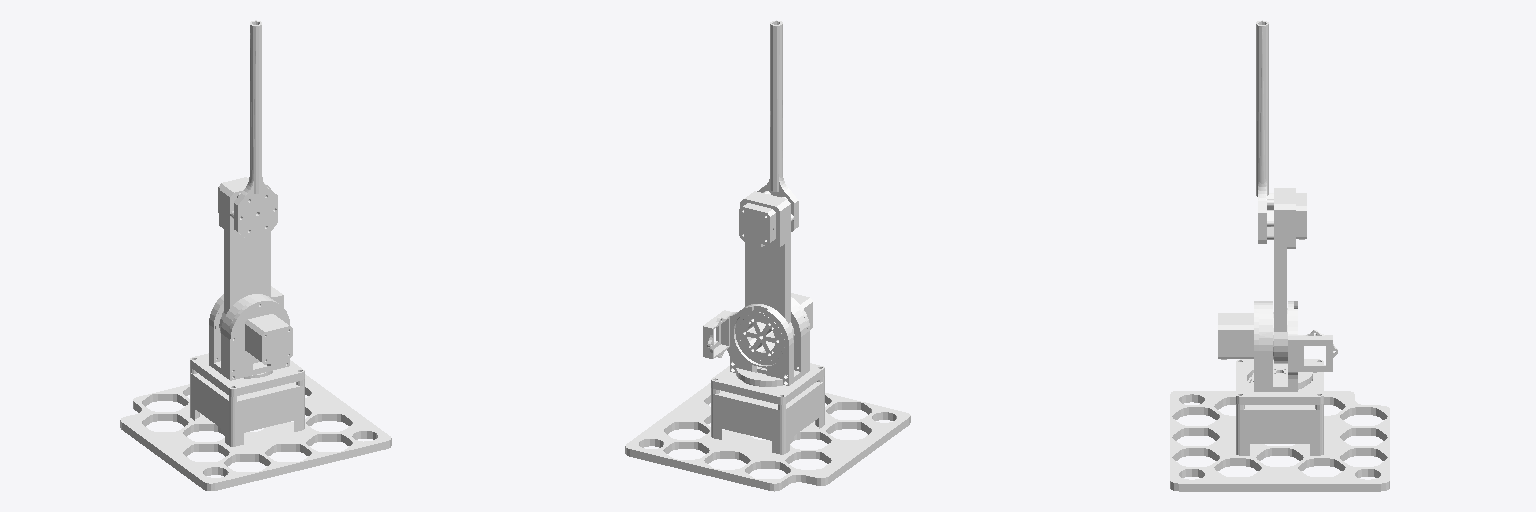
robot.urdf — arm:
<?xml version="1.0" encoding="utf-8"?>
<!-- This URDF was automatically created by SolidWorks to URDF Exporter! Originally created by Stephen Brawner (brawner@gmail.com) 
     Commit Version: 1.6.0-4-g7f85cfe  Build Version: 1.6.7995.38578
     For more information, please see http://wiki.ros.org/sw_urdf_exporter -->
<robot
  name="arm">
  <link
    name="base_link">
    <inertial>
      <origin
        xyz="0.0012131 -0.0014506 -0.034958"
        rpy="0 0 0" />
      <mass
        value="0.78149" />
      <inertia
        ixx="0.0019347"
        ixy="-0.00010589"
        ixz="5.8261E-07"
        iyy="0.0023266"
        iyz="-8.0214E-07"
        izz="0.0041268" />
    </inertial>
    <visual>
      <origin
        xyz="0 0 0"
        rpy="0 0 0" />
      <geometry>
        <mesh
          filename="package://arm/model/base_link.STL" />
      </geometry>
      <material
        name="">
        <color
          rgba="1 1 1 1" />
      </material>
    </visual>
    <collision>
      <origin
        xyz="0 0 0"
        rpy="0 0 0" />
      <geometry>
        <mesh
          filename="package://arm/model/base_link.STL" />
      </geometry>
    </collision>
  </link>
  <link
    name="link1">
    <inertial>
      <origin
        xyz="0.00273821837506744 -0.0177429514274453 0.0322867931957599"
        rpy="0 0 0" />
      <mass
        value="0.237480459004493" />
      <inertia
        ixx="0.000162650922485102"
        ixy="-5.04757721476443E-06"
        ixz="-9.23387553668904E-06"
        iyy="0.000247023468822088"
        iyz="1.28020465130273E-05"
        izz="0.000156564161428289" />
    </inertial>
    <visual>
      <origin
        xyz="0 0 0"
        rpy="0 0 0" />
      <geometry>
        <mesh
          filename="package://arm/model/link1.STL" />
      </geometry>
      <material
        name="">
        <color
          rgba="1 1 1 1" />
      </material>
    </visual>
    <collision>
      <origin
        xyz="0 0 0"
        rpy="0 0 0" />
      <geometry>
        <mesh
          filename="package://arm/model/link1.STL" />
      </geometry>
    </collision>
  </link>
  <joint
    name="joint1"
    type="revolute">
    <origin
      xyz="0 0 0.022"
      rpy="0 0 0" />
    <parent
      link="base_link" />
    <child
      link="link1" />
    <axis
      xyz="0 0 1" />
    <limit
      lower="-3.14"
      upper="3.14"
      effort="5"
      velocity="5" />
  </joint>
  <link
    name="link2">
    <inertial>
      <origin
        xyz="0.0892998843915414 7.48438309078336E-07 -0.0131208277750325"
        rpy="0 0 0" />
      <mass
        value="0.259550359688615" />
      <inertia
        ixx="7.02266674017583E-05"
        ixy="-7.86192982561731E-08"
        ixz="-5.73786610255225E-06"
        iyy="0.000704712640976422"
        iyz="-9.44678663691749E-11"
        izz="0.000753942469921271" />
    </inertial>
    <visual>
      <origin
        xyz="0 0 0"
        rpy="0 0 0" />
      <geometry>
        <mesh
          filename="package://arm/model/link2.STL" />
      </geometry>
      <material
        name="">
        <color
          rgba="1 1 1 1" />
      </material>
    </visual>
    <collision>
      <origin
        xyz="0 0 0"
        rpy="0 0 0" />
      <geometry>
        <mesh
          filename="package://arm/model/link2.STL" />
      </geometry>
    </collision>
  </link>
  <joint
    name="joint2"
    type="revolute">
    <origin
      xyz="0 0.0160000000000002 0.0479999999999999"
      rpy="1.57079632679489 -1.57079 -3.14159265358979" />
    <parent
      link="link1" />
    <child
      link="link2" />
    <axis
      xyz="0 0 1" />
    <limit
      lower="-3.14"
      upper="3.14"
      effort="5"
      velocity="5" />
  </joint>
  <link
    name="link3">
    <inertial>
      <origin
        xyz="0.0627900438507056 -1.01486480885704E-08 -0.00500000037135806"
        rpy="0 0 0" />
      <mass
        value="0.057796264343919" />
      <inertia
        ixx="7.17096055591796E-06"
        ixy="2.69799094568741E-12"
        ixz="2.18087192979338E-12"
        iyy="0.000318297451981801"
        iyz="2.55594415464878E-12"
        izz="0.000324021882416629" />
    </inertial>
    <visual>
      <origin
        xyz="0 0 0"
        rpy="0 0 0" />
      <geometry>
        <mesh
          filename="package://arm/model/link3.STL" />
      </geometry>
      <material
        name="">
        <color
          rgba="1 1 1 1" />
      </material>
    </visual>
    <collision>
      <origin
        xyz="0 0 0"
        rpy="0 0 0" />
      <geometry>
        <mesh
          filename="package://arm/model/link3.STL" />
      </geometry>
    </collision>
  </link>
  <joint
    name="joint3"
    type="revolute">
    <origin
      xyz="0.149999999999999 0 -0.041"
      rpy="-3.14159265358979 0 0" />
    <parent
      link="link2" />
    <child
      link="link3" />
    <axis
      xyz="0 0 -1" />
    <limit
      lower="-3.14"
      upper="3.14"
      effort="5"
      velocity="5" />
  </joint>
  <link
    name="link4">
    <inertial>
      <origin
        xyz="-0.000500000000000278 -2.22044604925031E-16 0"
        rpy="0 0 0" />
      <mass
        value="0.000101284947151736" />
      <inertia
        ixx="4.06456492919918E-09"
        ixy="5.16987882845642E-26"
        ixz="1.68021061924834E-25"
        iyy="2.04072287686223E-09"
        iyz="-1.03397576569128E-25"
        izz="2.04072287686223E-09" />
    </inertial>
    <visual>
      <origin
        xyz="0 0 0"
        rpy="0 0 0" />
      <geometry>
        <mesh
          filename="package://arm/model/link4.STL" />
      </geometry>
      <material
        name="">
        <color
          rgba="1 1 1 1" />
      </material>
    </visual>
    <collision>
      <origin
        xyz="0 0 0"
        rpy="0 0 0" />
      <geometry>
        <mesh
          filename="package://arm/model/link4.STL" />
      </geometry>
    </collision>
  </link>
  <joint
    name="joint4"
    type="fixed">
    <origin
      xyz="0.242 0 -0.00499999999999967"
      rpy="2.87645157098845 0 0" />
    <parent
      link="link3" />
    <child
      link="link4" />
    <axis
      xyz="0.648437349583781 -0.703722158811871 -0.290351729565921" />
    <limit
      lower="-3.14"
      upper="3.14"
      effort="5"
      velocity="5" />
  </joint>
</robot>

--- What the picture shows (computed from the rendered views, not written in the file) ---
The picture shows the robot from 3 angles, left to right: view 1: azimuth 30°, elevation 25°; view 2: azimuth 150°, elevation 25°; view 3: azimuth 270°, elevation 25°; orthographic projection.
Model arm with 5 links and 4 joints (3 revolute, 1 fixed), rooted at base_link, posed all joints at 0.
Links seen in each view (by area): view 1: base_link, link1, link2, link3; view 2: base_link, link2, link1, link3; view 3: base_link, link1, link2, link3.
Boxes of the visible links, x1,y1,x2,y2 form: base_link: [120, 353, 391, 490]; link1: [209, 286, 292, 380]; link2: [218, 177, 270, 332]; link3: [234, 22, 277, 237]; base_link: [625, 363, 910, 491]; link2: [739, 191, 794, 360]; link1: [703, 293, 812, 386]; link3: [757, 22, 798, 231]; base_link: [1170, 359, 1389, 491]; link1: [1218, 301, 1337, 391]; link2: [1267, 188, 1306, 363]; link3: [1256, 22, 1268, 243].
Bounding box of the posed robot: 0.25 × 0.25 × 0.529 m (x, y, z).
Meshes: 5 distinct files referenced, 5 mesh visuals loaded (5 binary STL).
